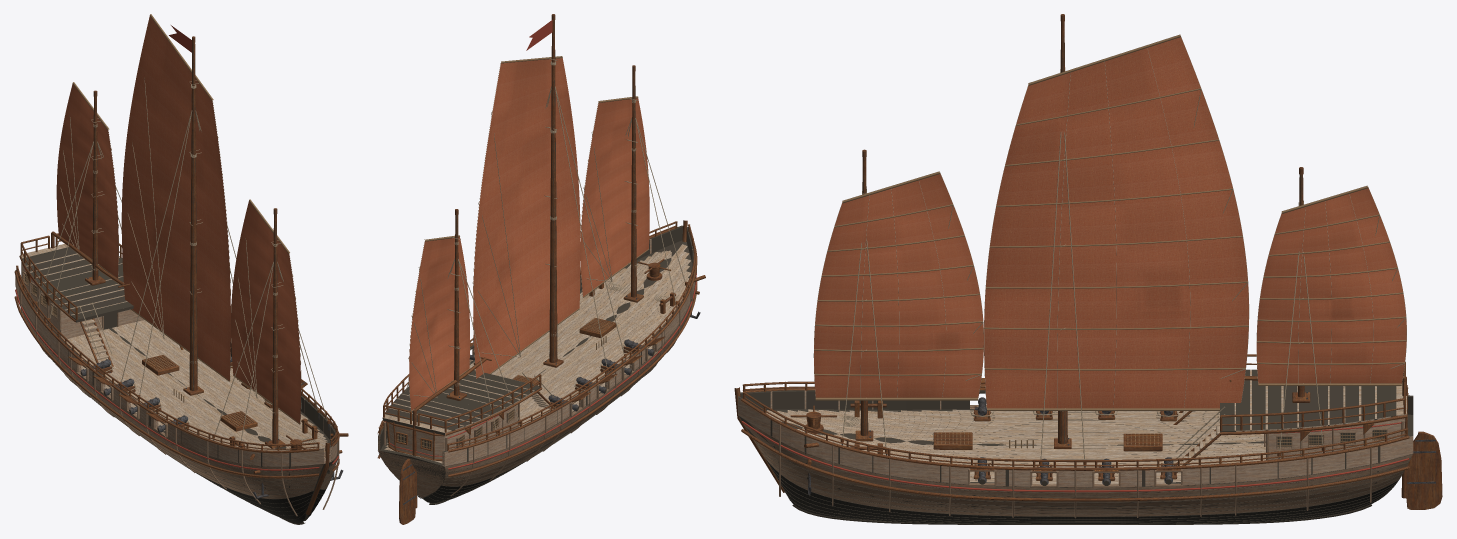
File: fuchuan-lod0.glb
The picture shows the model from 3 angles, left to right: view 1: azimuth 30°, elevation 25°; view 2: azimuth 150°, elevation 25°; view 3: azimuth 270°, elevation 25°; orthographic projection. The views are drawn at different scales.
Visible parts, largest first — view 1: sail_1, hull, deck, sail_0, sail_2, shadow_deck, deck_fittings, bulwark_rails, mast_timber_1, shadow_hull, sterncastle, mast_timber_0 (+8 smaller); view 2: sail_1, deck, hull, sail_0, sail_2, shadow_deck, deck_fittings, shadow_hull, bulwark_rails, mast_timber_1, mast_timber_0, stern_transom (+9 smaller); view 3: sail_1, hull, sail_0, sail_2, deck, shadow_hull, shadow_deck, bulwark_rails, deck_fittings, rudder_blade, sterncastle, rigging_1.
Boxes of the visible parts, x1,y1,x2,y2 form: sail_1: (121, 14, 231, 381); hull: (14, 270, 339, 524); deck: (19, 244, 330, 450); sail_0: (231, 199, 301, 424); sail_2: (56, 82, 119, 278); shadow_deck: (22, 247, 133, 322); deck_fittings: (21, 262, 348, 498); bulwark_rails: (16, 233, 338, 452); mast_timber_1: (189, 43, 197, 390); shadow_hull: (15, 270, 337, 521); sterncastle: (23, 266, 144, 339); mast_timber_0: (272, 214, 278, 443); sail_1: (472, 56, 580, 378); deck: (382, 244, 690, 463); hull: (377, 220, 697, 504); sail_0: (580, 96, 649, 297); sail_2: (408, 235, 469, 411); shadow_deck: (383, 370, 540, 435); deck_fittings: (383, 259, 705, 461); shadow_hull: (378, 225, 695, 502); bulwark_rails: (378, 221, 695, 451); mast_timber_1: (549, 20, 557, 362); mast_timber_0: (631, 71, 636, 297); stern_transom: (388, 423, 444, 458); sail_1: (984, 34, 1249, 410); hull: (734, 387, 1413, 524); sail_0: (813, 171, 983, 400); sail_2: (1256, 185, 1406, 386); deck: (766, 369, 1407, 484); shadow_hull: (738, 390, 1413, 523); shadow_deck: (1220, 369, 1396, 432); bulwark_rails: (742, 354, 1408, 467); deck_fittings: (790, 385, 1407, 494); rudder_blade: (1406, 431, 1442, 509); sterncastle: (1266, 418, 1404, 460); rigging_1: (1039, 132, 1086, 473).
Bounding box in the file's own units: 10.4 × 26.65 × 33.55.
13 materials, 8 textured.
